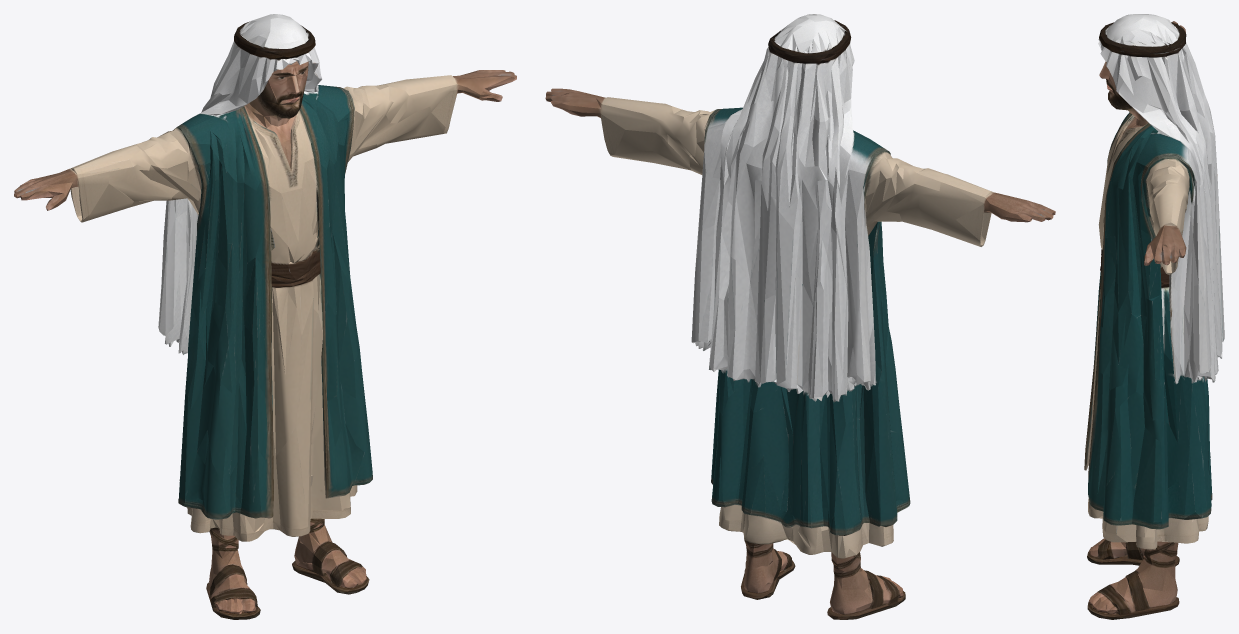
Rendered from lemuel-remeshed.glb.
3 views of the same model, side by side, from view 1: azimuth 30°, elevation 25°; view 2: azimuth 150°, elevation 25°; view 3: azimuth 270°, elevation 25° (orthographic).
Parts seen in each view (by area): view 1: output_unwrapped; view 2: output_unwrapped; view 3: output_unwrapped.
Part boxes in pixels (x1,y1,x2,y2): output_unwrapped: (14, 14, 516, 619); output_unwrapped: (545, 14, 1055, 619); output_unwrapped: (1084, 14, 1224, 619).
Size of the model in its own units: 1.75 by 1.9 by 0.4269.
Materials: 1 (1 with a texture image).
